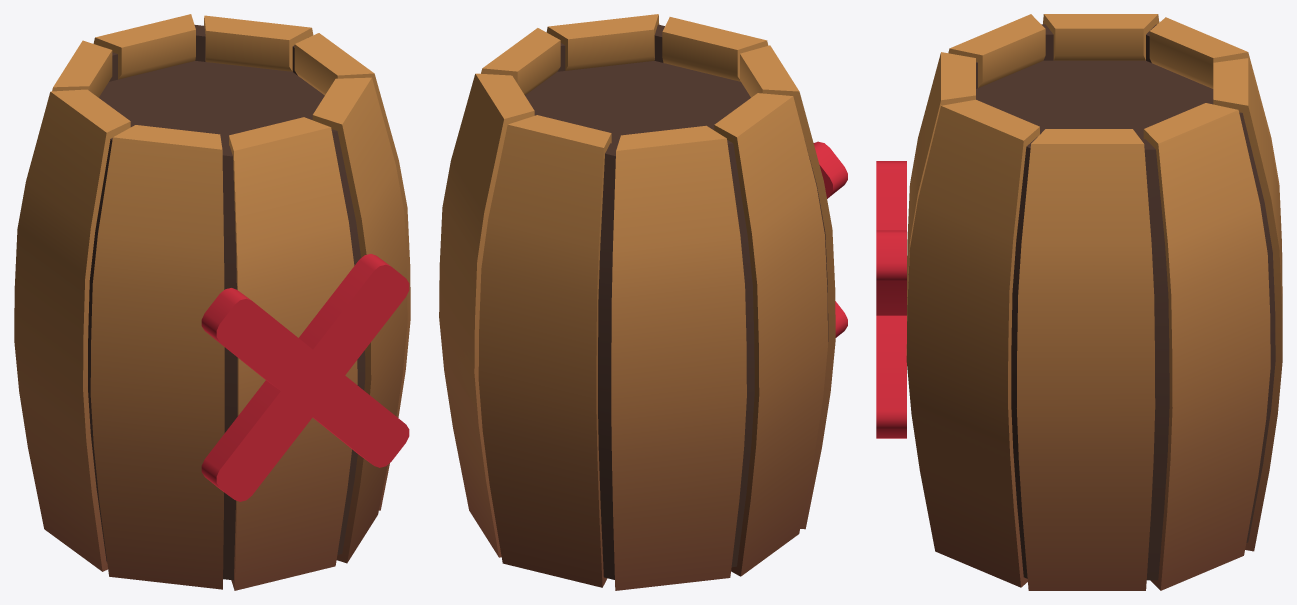
The picture shows the model from 3 angles, left to right: view 1: azimuth 30°, elevation 25°; view 2: azimuth 150°, elevation 25°; view 3: azimuth 270°, elevation 25°; orthographic projection.
Visible parts, largest first — view 1: LOD 0_4746937021995407784_ff341511bebd94b45835b85c6ba3315b; view 2: LOD 0_4746937021995407784_ff341511bebd94b45835b85c6ba3315b; view 3: LOD 0_4746937021995407784_ff341511bebd94b45835b85c6ba3315b.
Boxes of the visible parts, <box> form: LOD 0_4746937021995407784_ff341511bebd94b45835b85c6ba3315b: <box>14,14,410,590</box>; LOD 0_4746937021995407784_ff341511bebd94b45835b85c6ba3315b: <box>439,14,847,590</box>; LOD 0_4746937021995407784_ff341511bebd94b45835b85c6ba3315b: <box>876,14,1282,590</box>.
Bounding box in the file's own units: 0.7621 × 0.995 × 0.8237.
